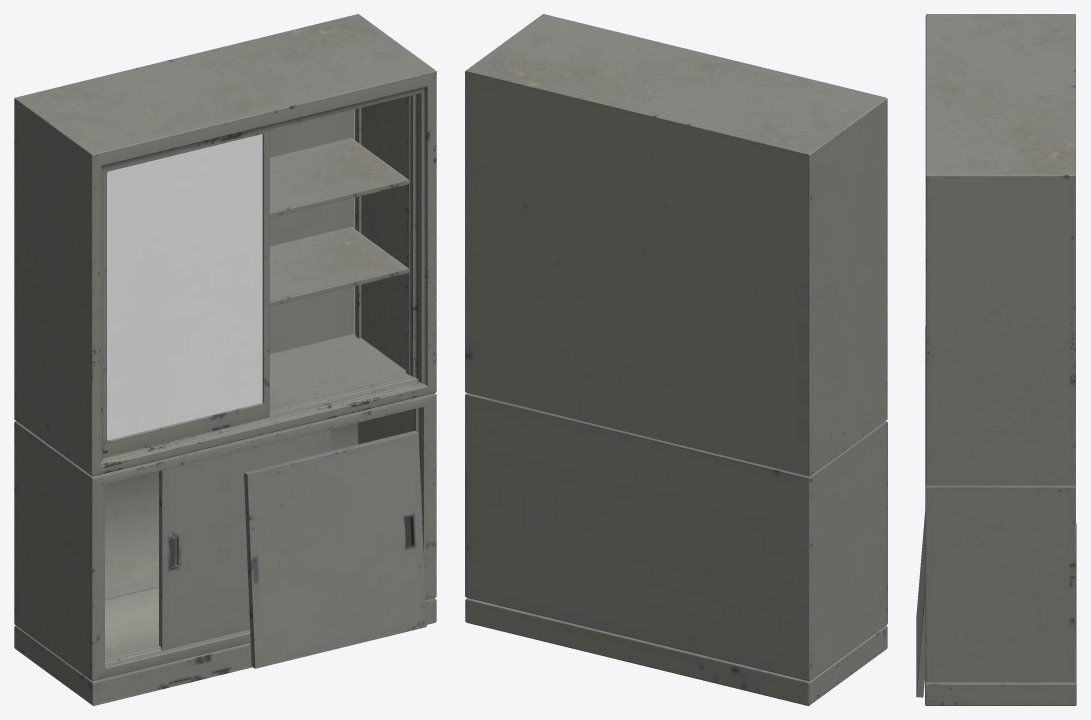
Rendered from 028_OfficeCabinet.fbx.
The picture shows the model from 3 angles, left to right: view 1: azimuth 30°, elevation 25°; view 2: azimuth 150°, elevation 25°; view 3: azimuth 270°, elevation 25°; orthographic projection. The views are drawn at different scales.
Parts seen in each view (by area): view 1: LOD_1_Group_0_Sub_1__sm30_027_OfficeCabinet02A_A_Mat, LOD_1_Group_0_Sub_2__sm30_027_OfficeCabinet02A_B_Mat; view 2: LOD_1_Group_0_Sub_1__sm30_027_OfficeCabinet02A_A_Mat; view 3: LOD_1_Group_0_Sub_1__sm30_027_OfficeCabinet02A_A_Mat.
Part boxes in pixels (<box>): LOD_1_Group_0_Sub_1__sm30_027_OfficeCabinet02A_A_Mat: <box>14,14,436,705</box>; LOD_1_Group_0_Sub_2__sm30_027_OfficeCabinet02A_B_Mat: <box>107,134,262,440</box>; LOD_1_Group_0_Sub_1__sm30_027_OfficeCabinet02A_A_Mat: <box>465,14,887,705</box>; LOD_1_Group_0_Sub_1__sm30_027_OfficeCabinet02A_A_Mat: <box>916,14,1076,705</box>.
Bounding box in the file's own units: 1.48 × 2.26 × 0.6179.
